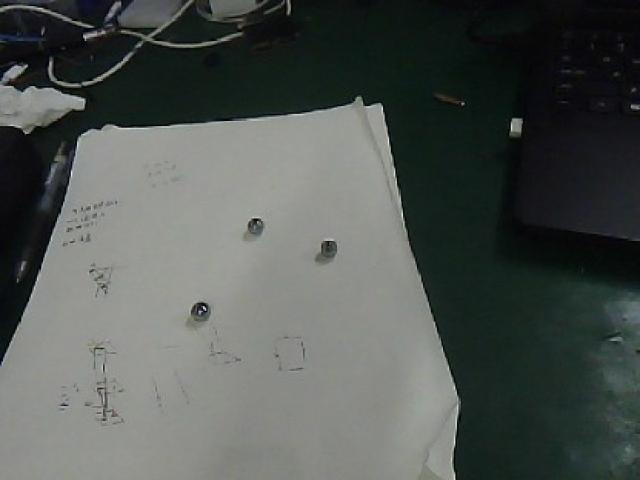steel-ball: (224, 196, 270, 244), (177, 283, 221, 332), (308, 220, 340, 265)
